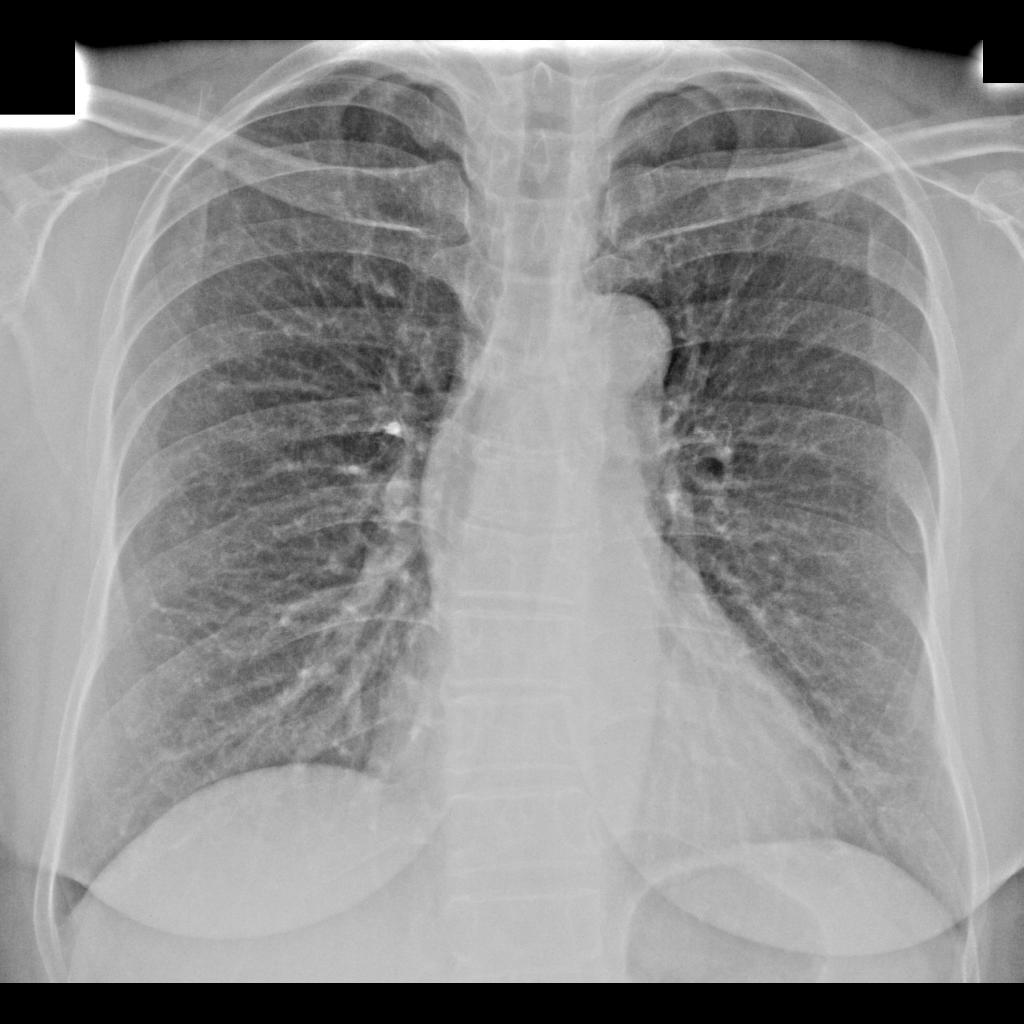Nodule: (792, 160, 858, 226)
